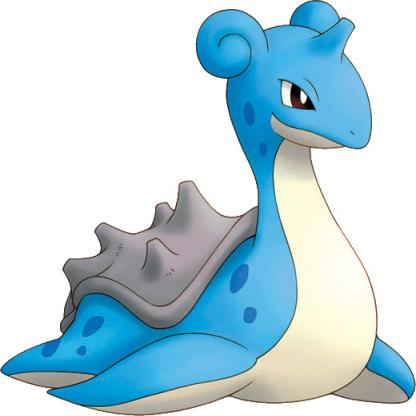Lapras: (17, 1, 416, 416)
